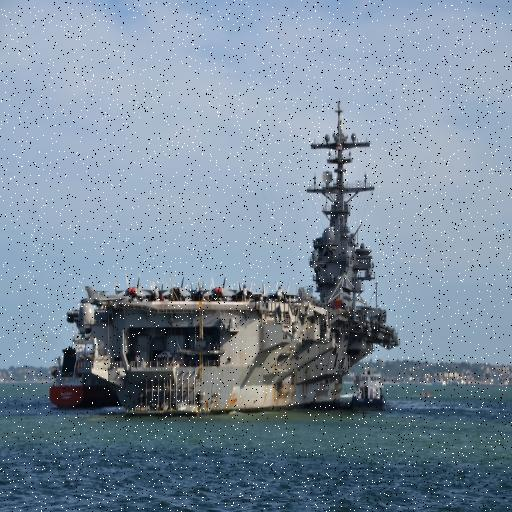Portanaves: (66, 99, 412, 425)
